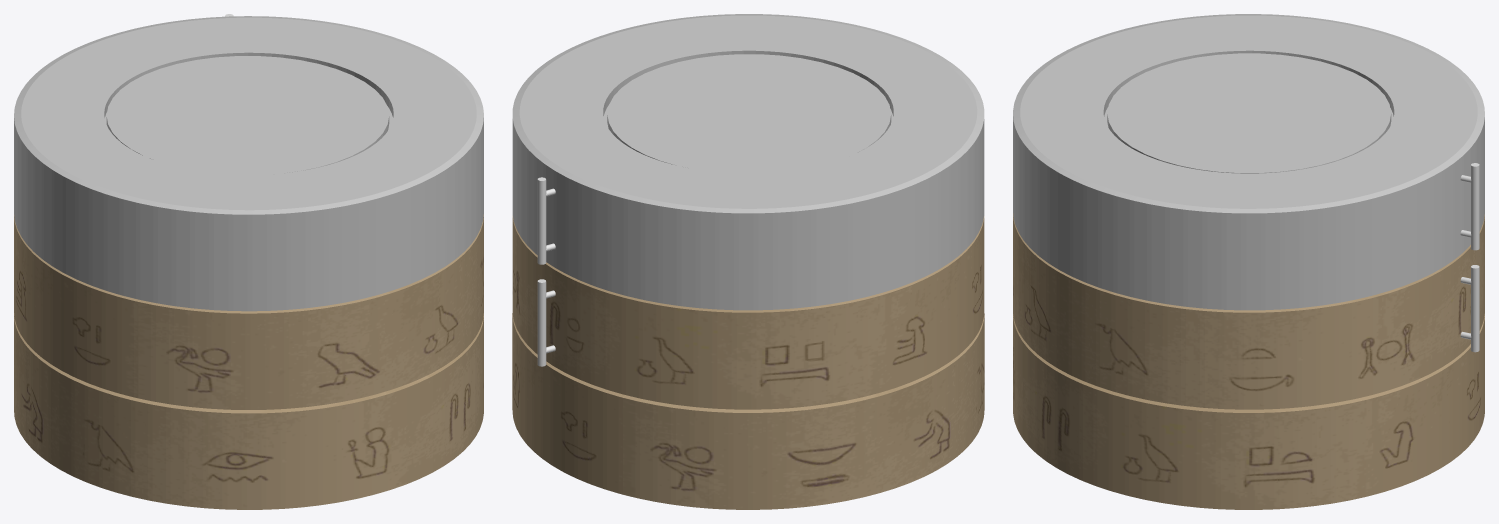
File: RotationPuzzle.fbx
The picture shows the model from 3 angles, left to right: view 1: azimuth 30°, elevation 25°; view 2: azimuth 150°, elevation 25°; view 3: azimuth 270°, elevation 25°; orthographic projection.
Parts seen in each view (by area): view 1: Cylinder.003, Cylinder.006, Cylinder.002, Cylinder.001; view 2: Cylinder.003, Cylinder.006, Cylinder.002, Cylinder.001, Cylinder.005, Cylinder.004; view 3: Cylinder.003, Cylinder.006, Cylinder.002, Cylinder.001, Cylinder.005, Cylinder.004.
Part boxes in pixels (bbox=[...]): Cylinder.003: bbox=[14, 16, 483, 311]; Cylinder.006: bbox=[14, 313, 483, 509]; Cylinder.002: bbox=[14, 214, 483, 409]; Cylinder.001: bbox=[106, 56, 389, 174]; Cylinder.003: bbox=[512, 14, 984, 310]; Cylinder.006: bbox=[512, 313, 984, 509]; Cylinder.002: bbox=[512, 216, 984, 409]; Cylinder.001: bbox=[607, 54, 891, 173]; Cylinder.005: bbox=[537, 177, 555, 264]; Cylinder.004: bbox=[537, 279, 555, 366]; Cylinder.003: bbox=[1013, 14, 1484, 310]; Cylinder.006: bbox=[1013, 314, 1484, 509]; Cylinder.002: bbox=[1013, 213, 1484, 409]; Cylinder.001: bbox=[1107, 53, 1391, 173]; Cylinder.005: bbox=[1460, 163, 1479, 250]; Cylinder.004: bbox=[1460, 265, 1479, 352].
Bounding box in the file's own units: 374 × 262 × 374.
